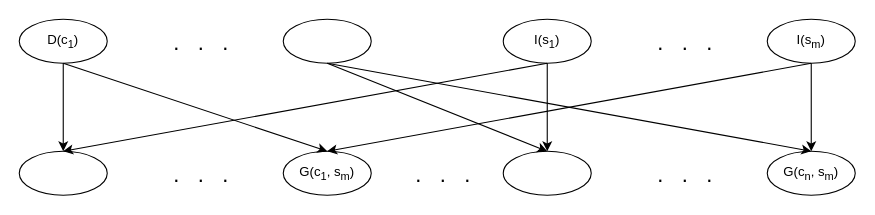
Image size: 875x215. Some labels were removed from this diagram. Here are the shapes that lost their labels. From the top down, the centre of each, then its label:
pixel 326 40: D(c n )
pixel 62 172: G(c 1 , s 1 )
pixel 546 172: G(c n , s 1 )
